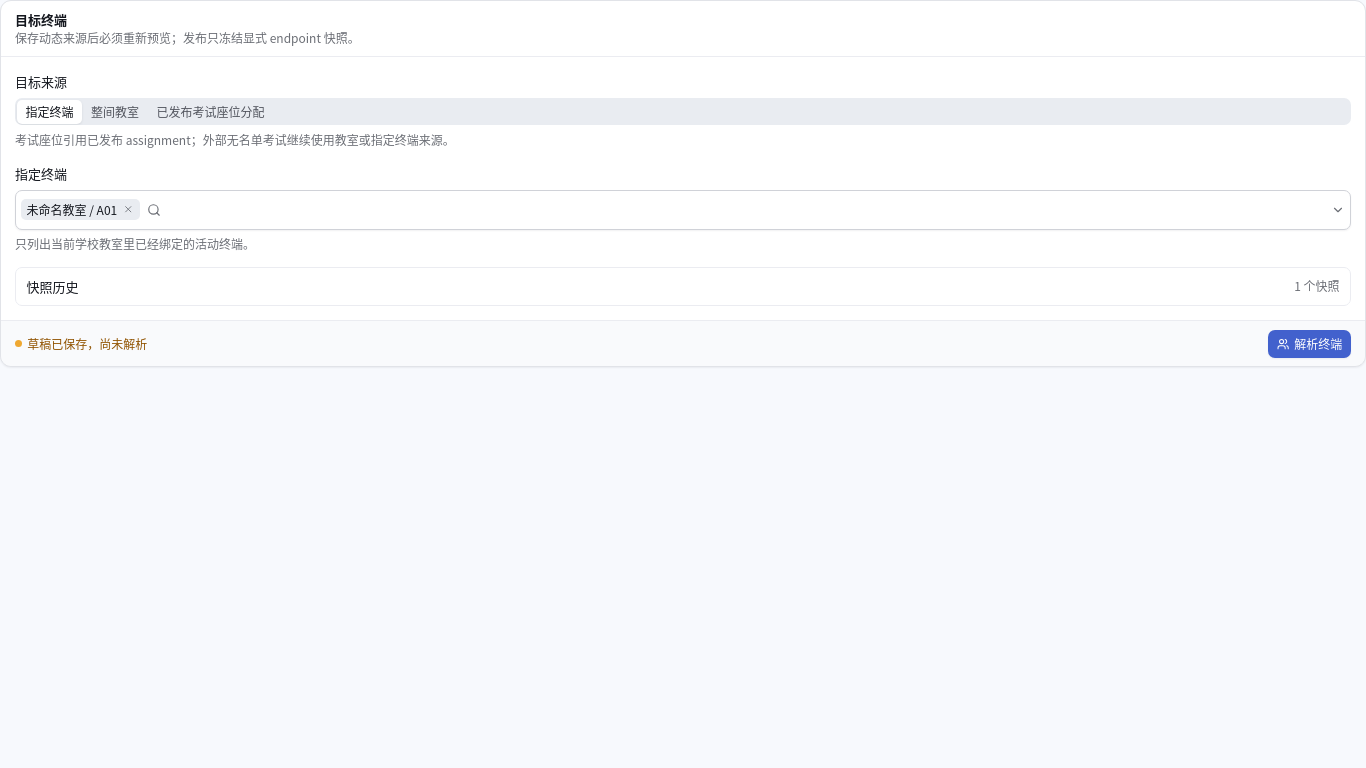
exam event target step › 解析结果里没有新增或移除的终端时，该列显示无
The width and height of the screenshot is (1366, 768).
Click the button "解析终端".
click(1310, 344)  # box [1268, 330, 1351, 358]
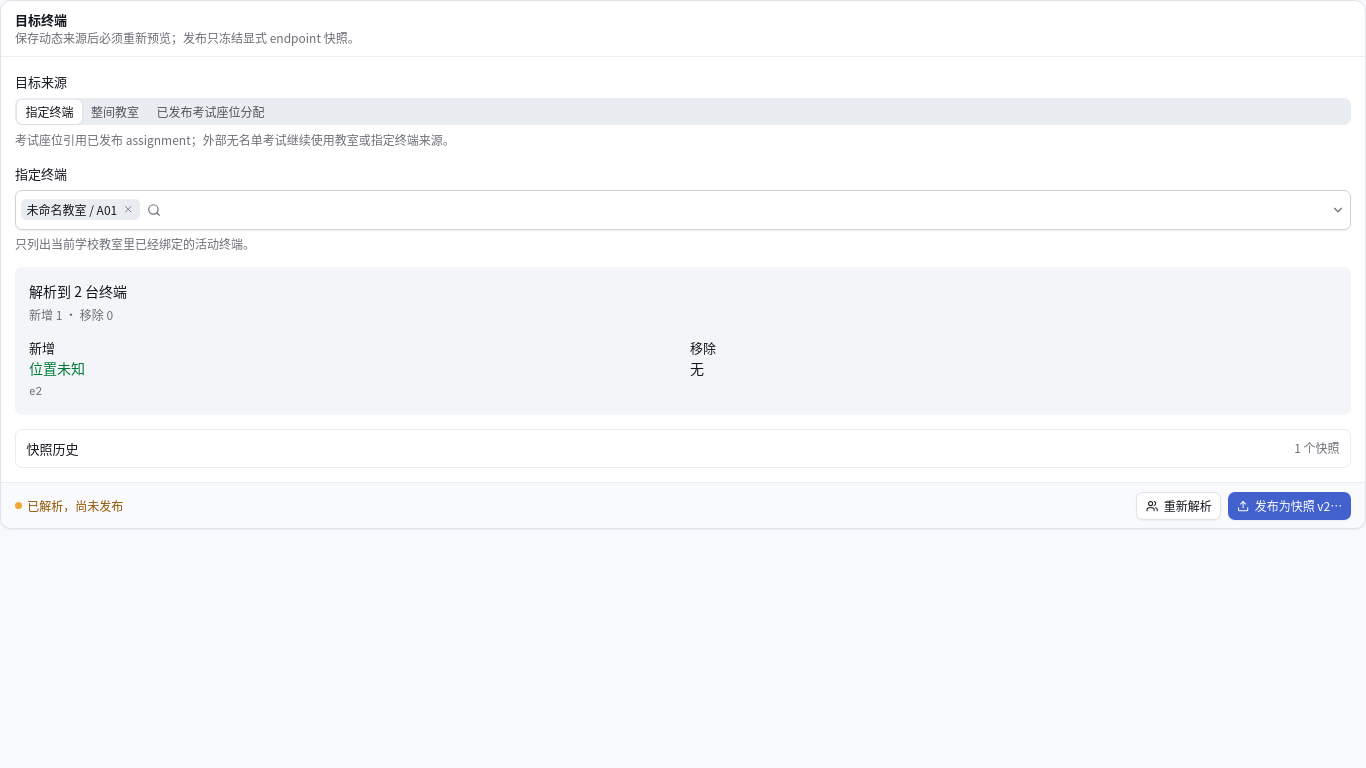
Now the text "解析到 2 台终端" is shown, box [29, 281, 127, 301]
Now the element showing "移除 无" is shown, box [690, 338, 716, 378]
